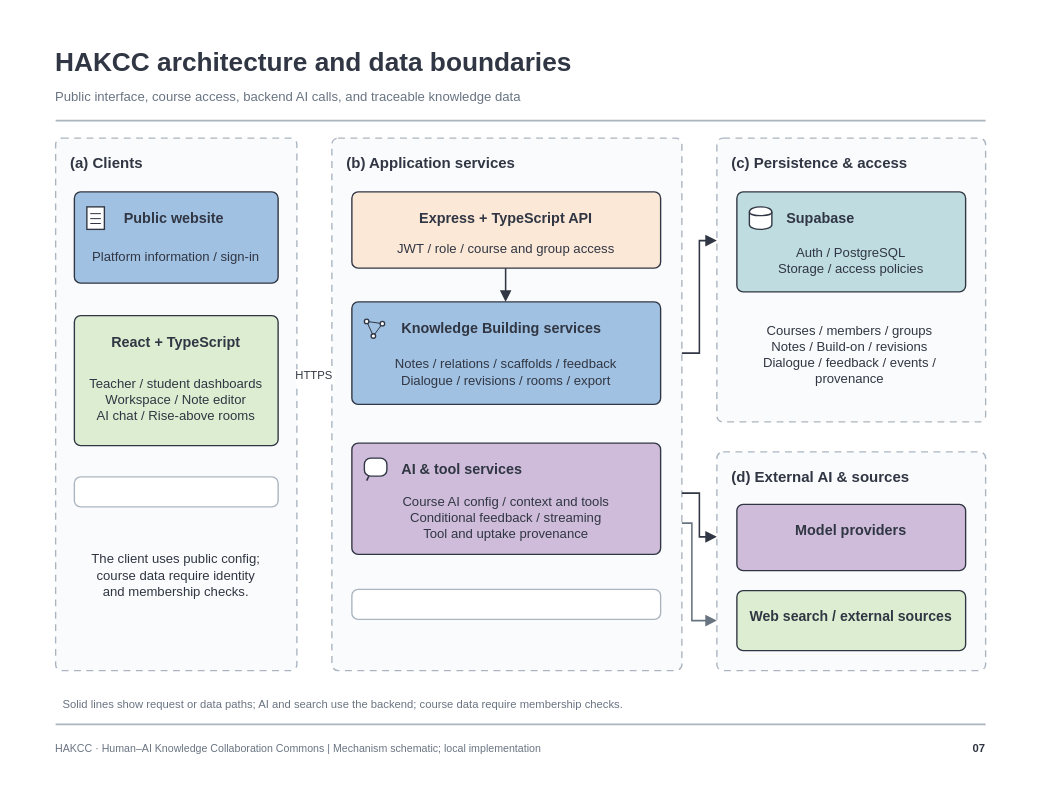
The diagram is 1041 pixels wide and 791 high, and some of its shapes have lost their labels. The shapes that lost their labels are listed below. From the top down, each one's centre as x and y in pixels, then its label:
At (x=175, y=491): "Vite · Web · Capacitor".
At (x=506, y=604): "Backend handles provider credentials".
